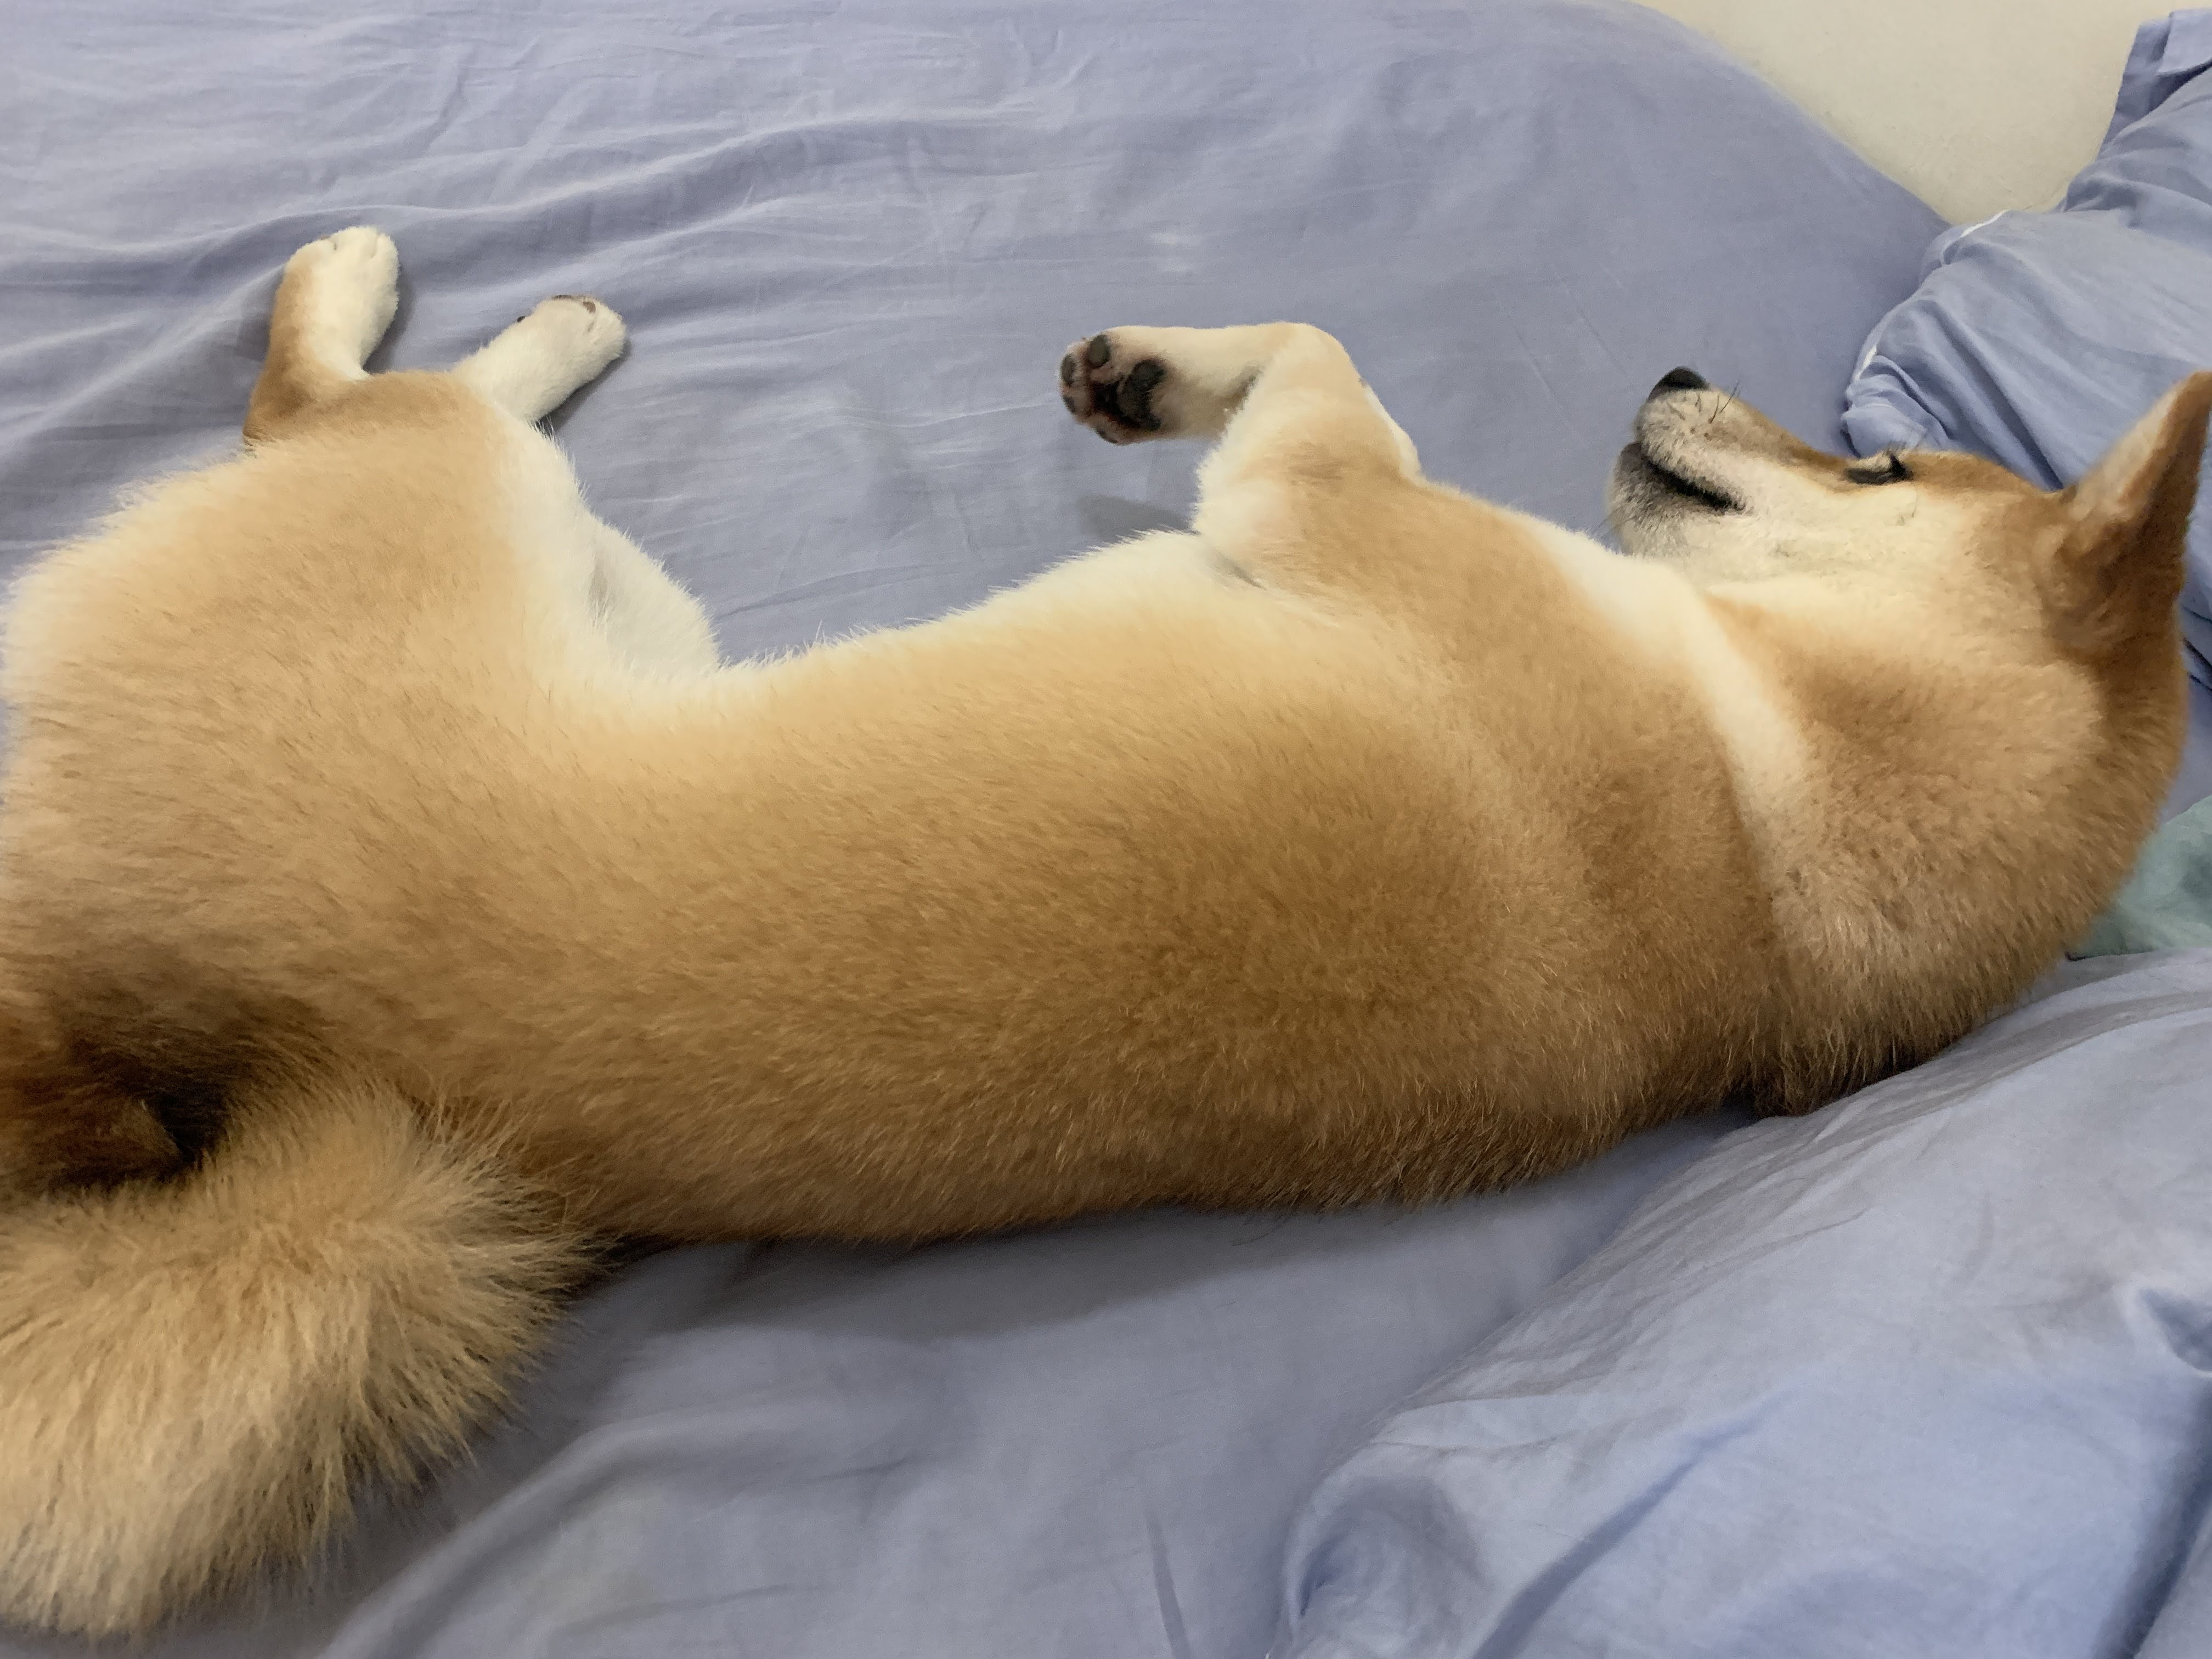Get down: (2, 230, 2212, 1647)
